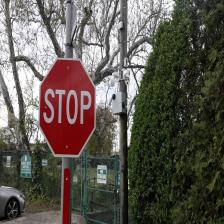Stop-sign: (36, 54, 99, 164)
